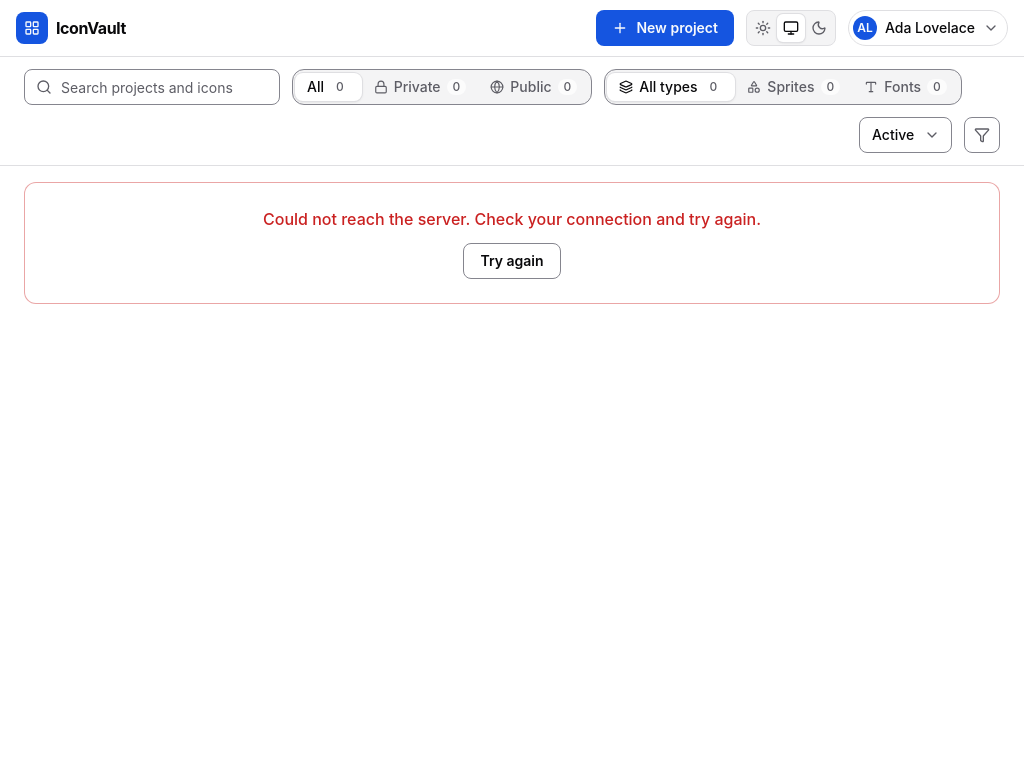
Scenario: signed in › closes the menu on a click outside and when focus leaves it
Click the button with aria-label "account menu".
click(928, 28)  # box [848, 10, 1008, 46]
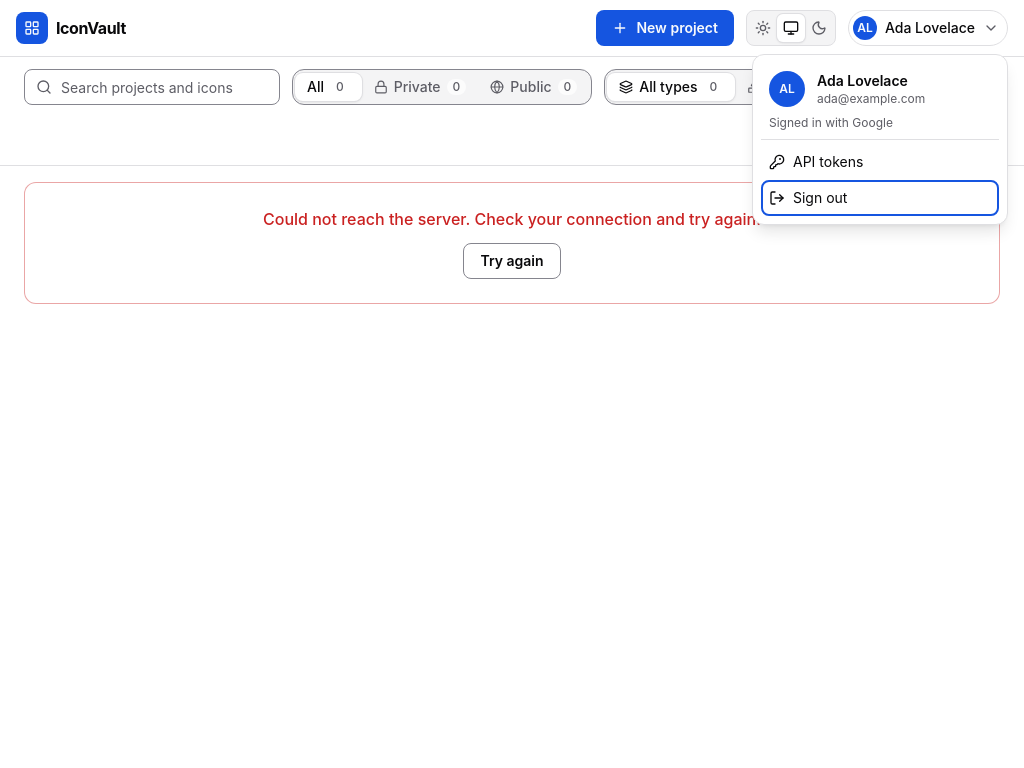
Click the element that starts with "IconVault".
click(512, 384)  # box [0, 0, 1023, 767]
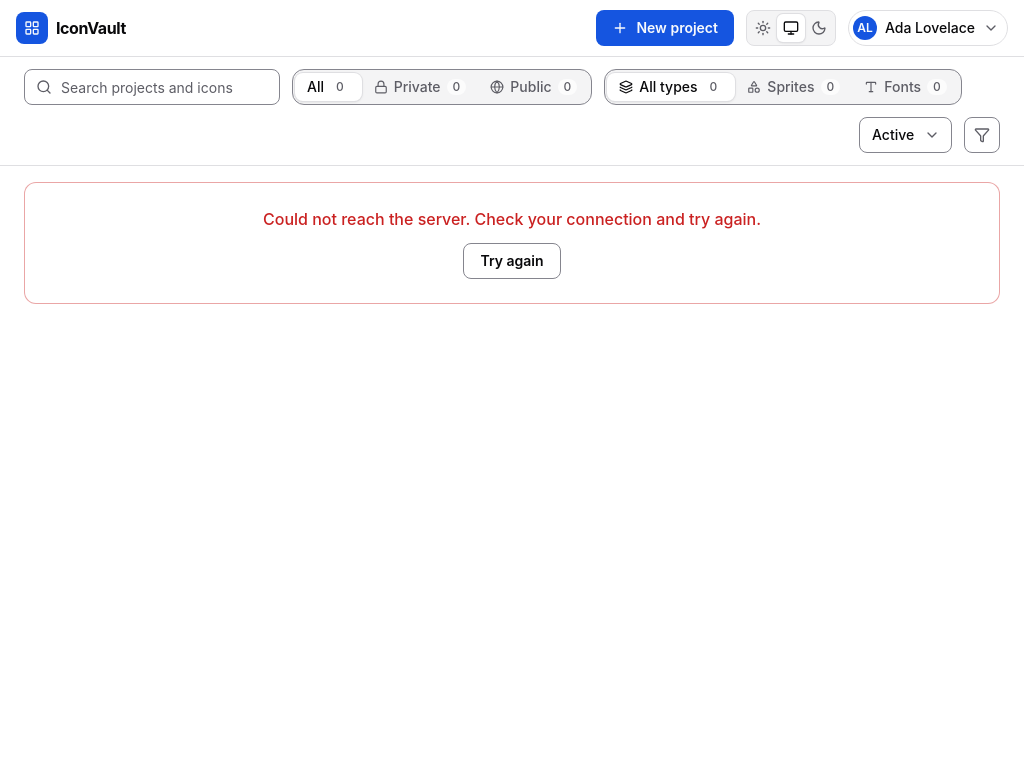
Now the menu is gone
Click the button with aria-label "account menu".
click(928, 28)  # box [848, 10, 1008, 46]
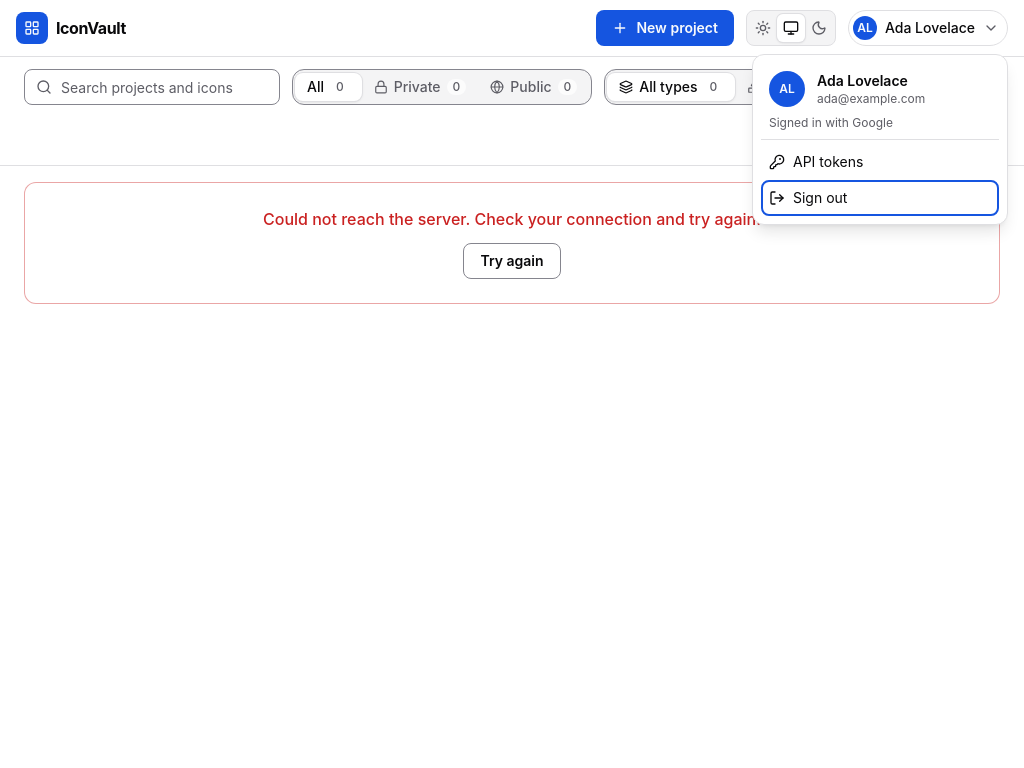
Press Tab
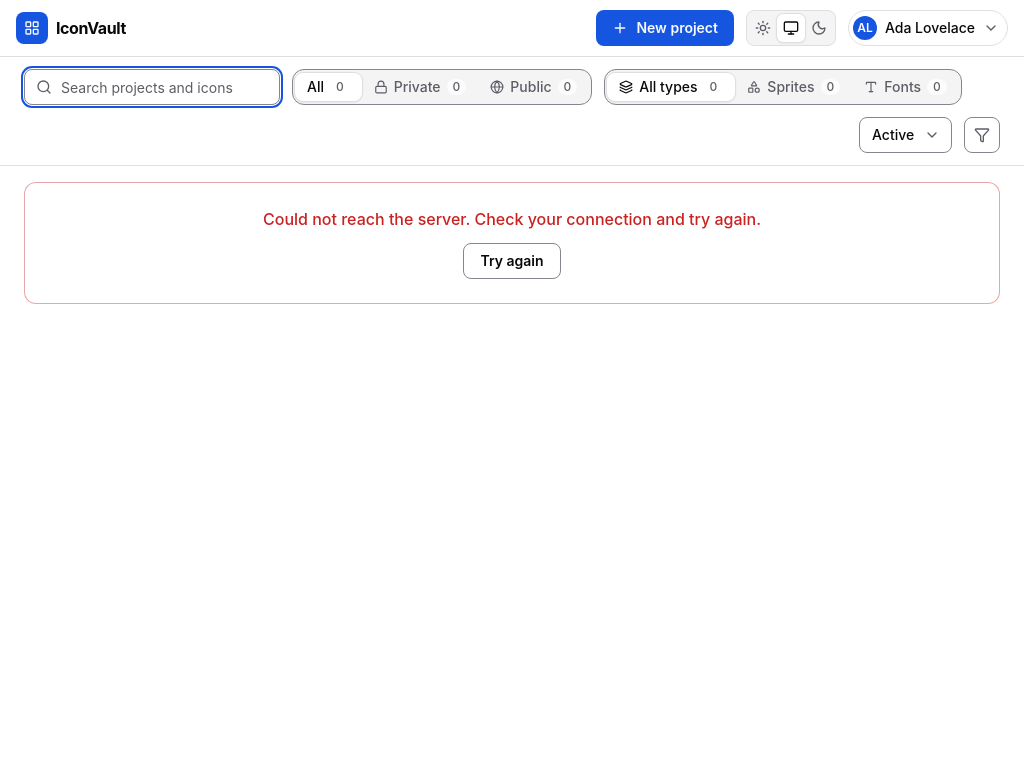
Now the menu is gone
